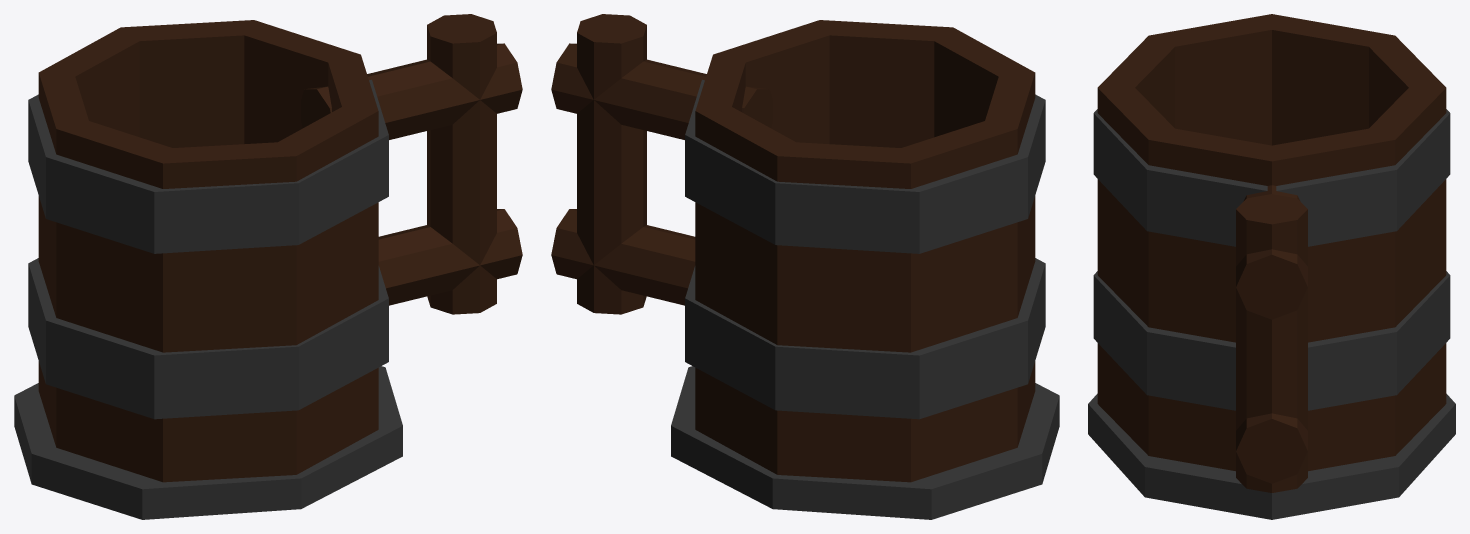
The model's file is BeerMug.fbx.
3 views of the same model, side by side, from view 1: azimuth 30°, elevation 25°; view 2: azimuth 150°, elevation 25°; view 3: azimuth 270°, elevation 25° (orthographic).
Visible parts, largest first — view 1: Cylinder.003; view 2: Cylinder.003; view 3: Cylinder.003.
Boxes of the visible parts, x1,y1,x2,y2 form: Cylinder.003: (14, 14, 522, 519); Cylinder.003: (551, 14, 1059, 519); Cylinder.003: (1088, 14, 1455, 519).
Size of the model in its own units: 124 by 87.53 by 83.88.
